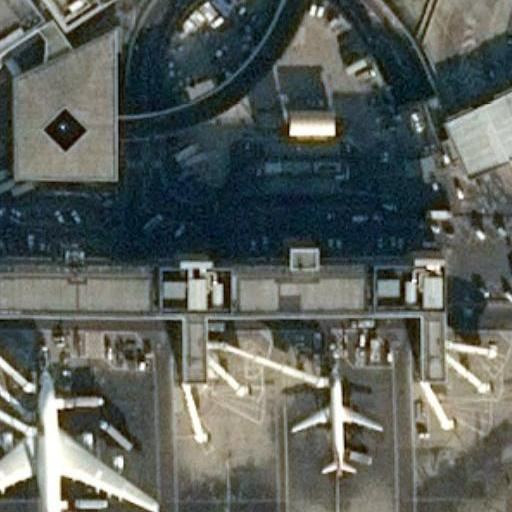Aircraft: (0, 364, 157, 512), (287, 366, 382, 479)
